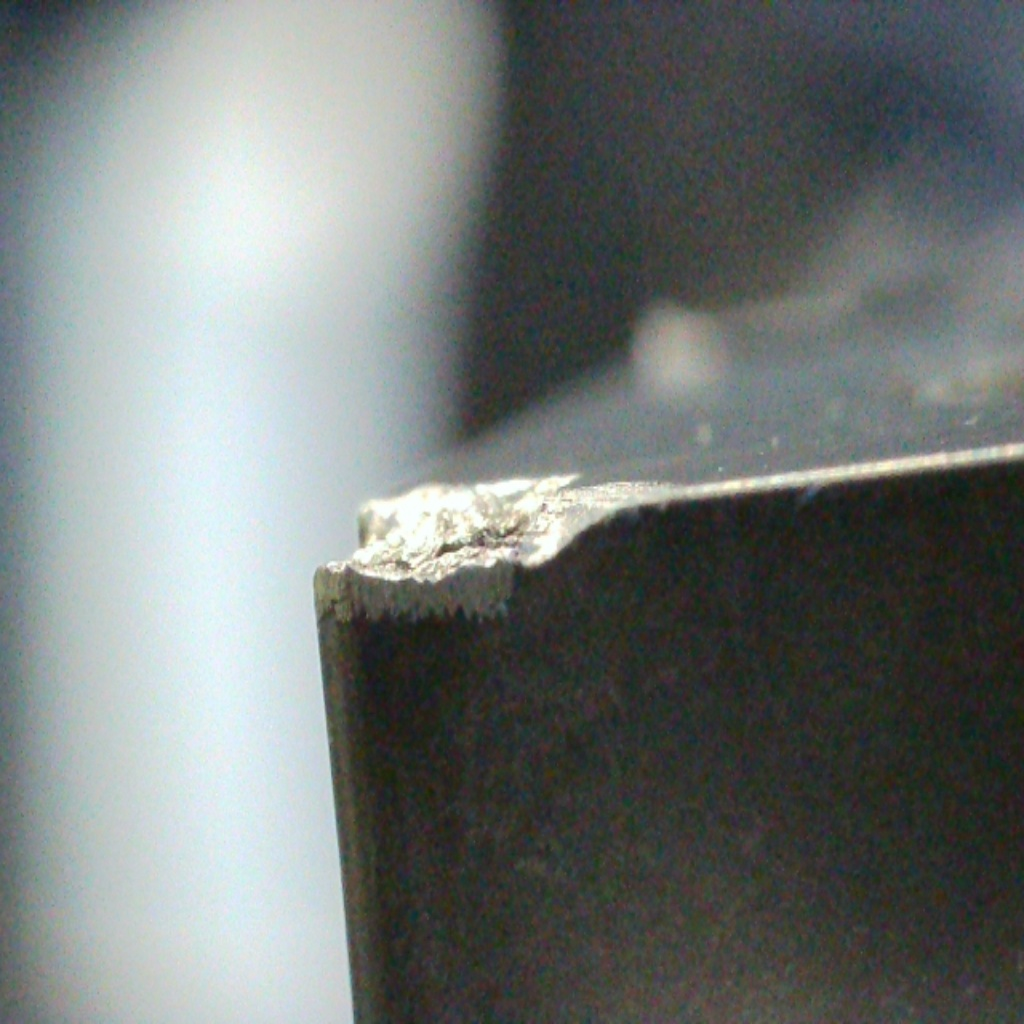flank_wear: (315, 528, 592, 628)
